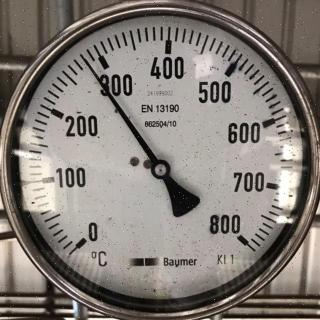gauge: (0, 0, 320, 320), (66, 224, 98, 256), (225, 222, 253, 254), (150, 158, 172, 180), (80, 52, 88, 64)
